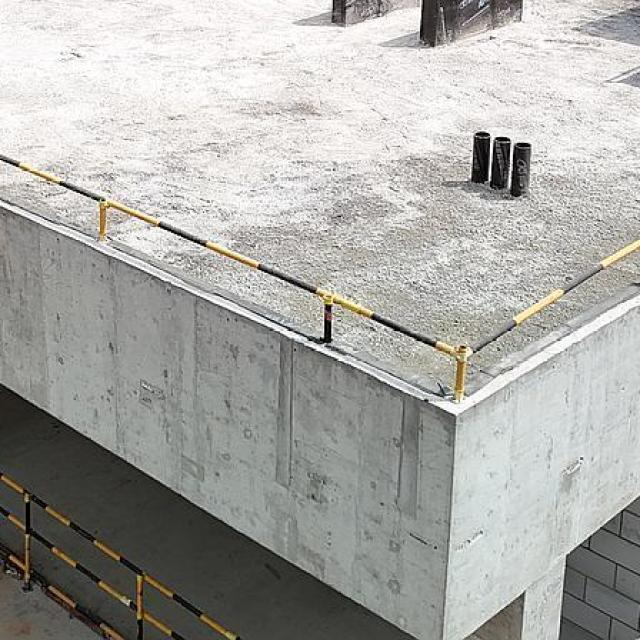Guardrail: (0, 154, 640, 404), (0, 471, 243, 640)
